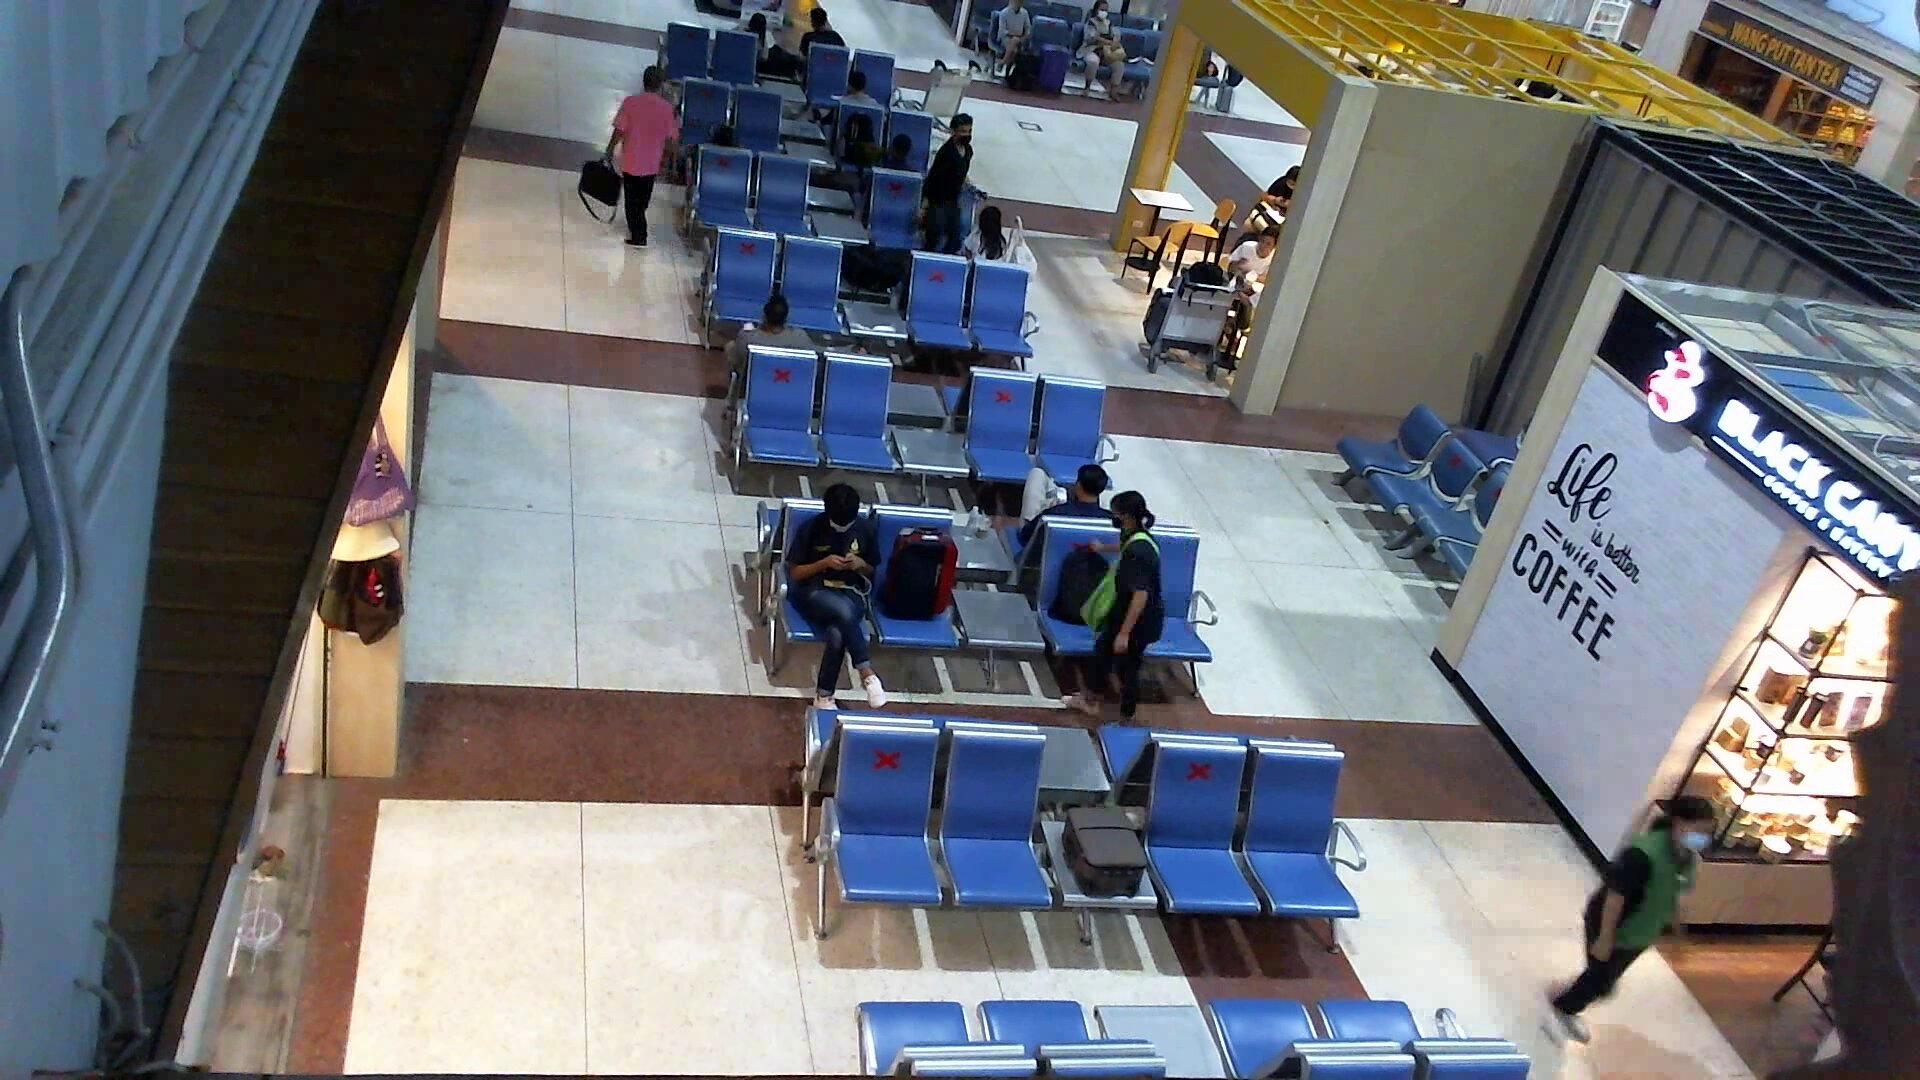backpack: (1042, 537, 1116, 633)
bag: (316, 537, 413, 649), (339, 410, 422, 536), (568, 154, 630, 230)
luggage: (1057, 796, 1157, 905), (881, 523, 965, 637), (1029, 43, 1073, 101)
people: (1532, 778, 1729, 1062), (778, 482, 899, 731), (1080, 486, 1174, 743), (593, 65, 696, 253), (912, 114, 988, 257), (715, 291, 833, 378), (1023, 466, 1125, 543), (1067, 1, 1132, 117), (965, 204, 1022, 288), (1229, 227, 1288, 291)
